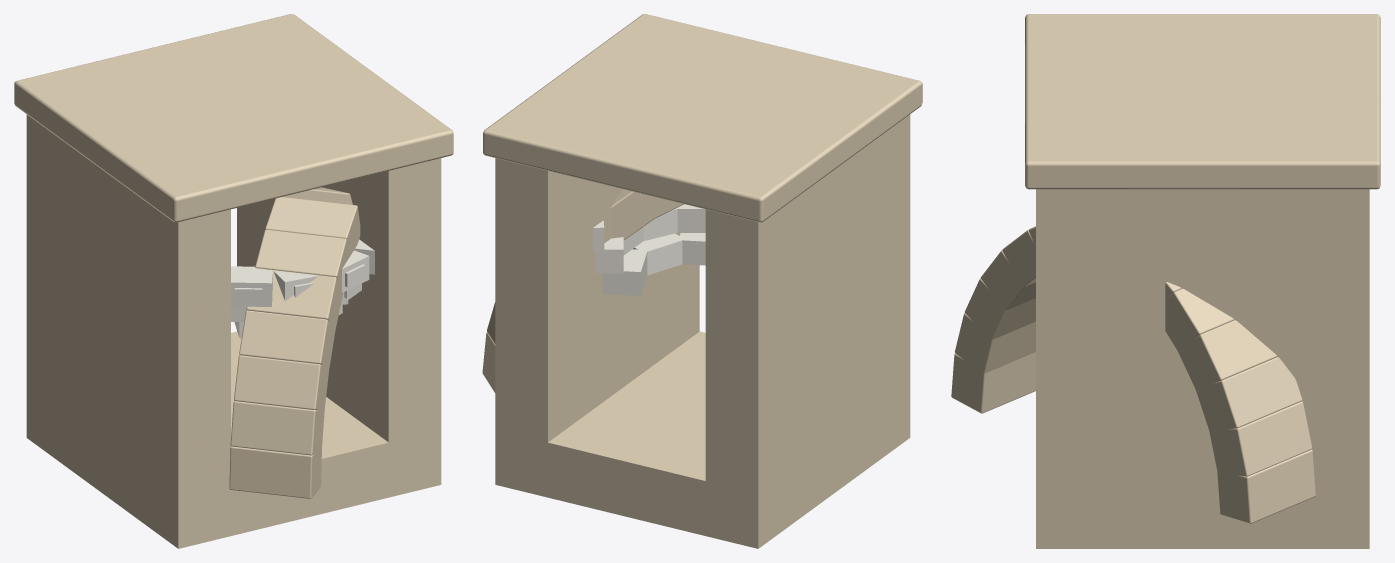
File: squinch-corner-sec-6d3a9e4b.glb
3 renders of one model, left to right at view 1: azimuth 30°, elevation 25°; view 2: azimuth 150°, elevation 25°; view 3: azimuth 270°, elevation 25°, orthographic. The views are drawn at different scales.
Visible parts, largest first — view 1: squinch-corner-section; view 2: squinch-corner-section; view 3: squinch-corner-section.
Boxes of the visible parts, x1,y1,x2,y2 form: squinch-corner-section: [14, 14, 453, 548]; squinch-corner-section: [482, 14, 922, 548]; squinch-corner-section: [951, 14, 1380, 548].
Bounding box in the file's own units: 1.93 × 1.94 × 1.93.
